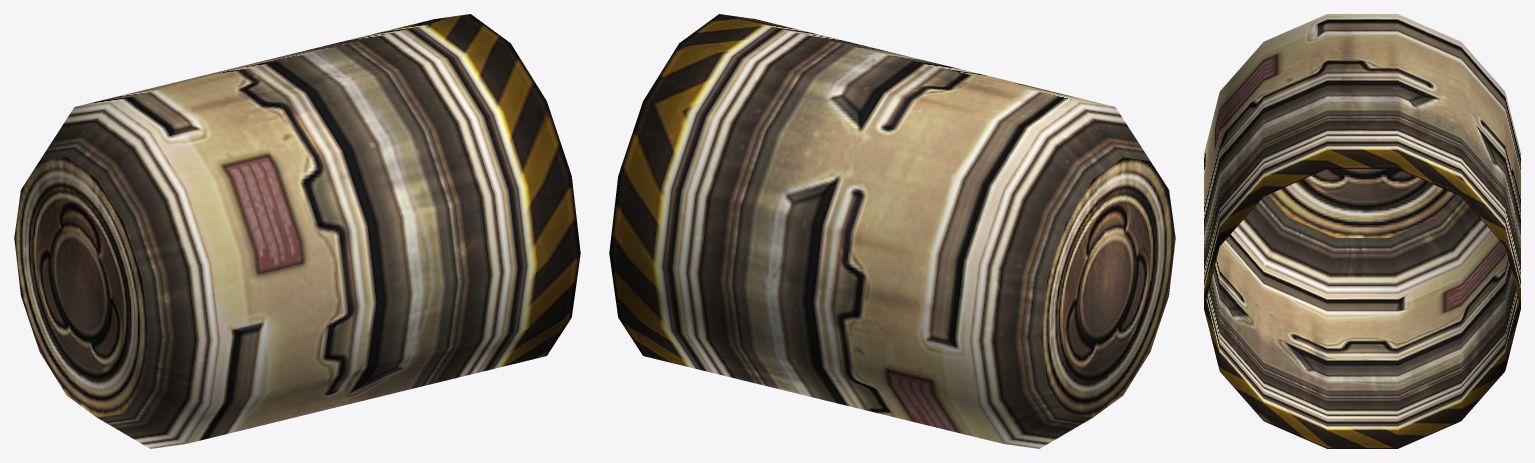
Rendered from mpr_tube_node.FBX.
3 renders of one model, left to right at view 1: azimuth 30°, elevation 25°; view 2: azimuth 150°, elevation 25°; view 3: azimuth 270°, elevation 25°, orthographic. The views are drawn at different scales.
Parts seen in each view (by area): view 1: mpr_tube_node; view 2: mpr_tube_node; view 3: mpr_tube_node.
Part boxes in pixels (x1,y1,x2,y2): mpr_tube_node: (14,14,580,448); mpr_tube_node: (609,14,1175,448); mpr_tube_node: (1204,14,1520,448).
Size of the model in its own units: 288 by 214 by 219.
Materials: 1 (1 with a texture image).
